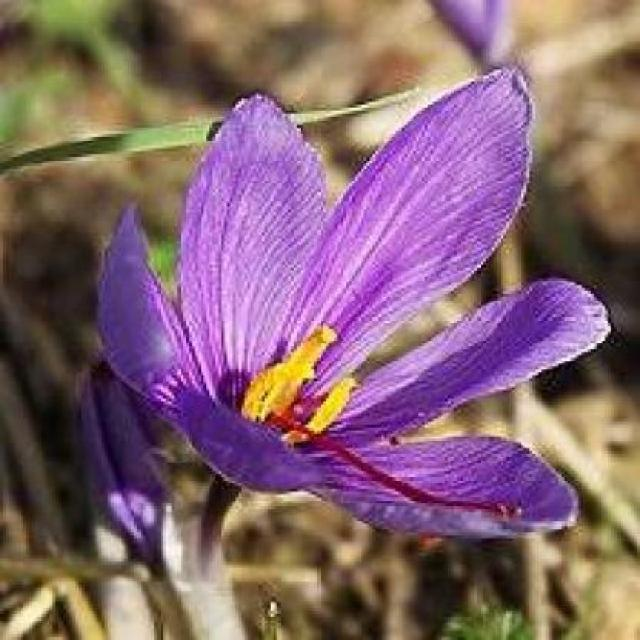Flower: (98, 65, 614, 542)
stigma: (321, 441, 532, 524)
